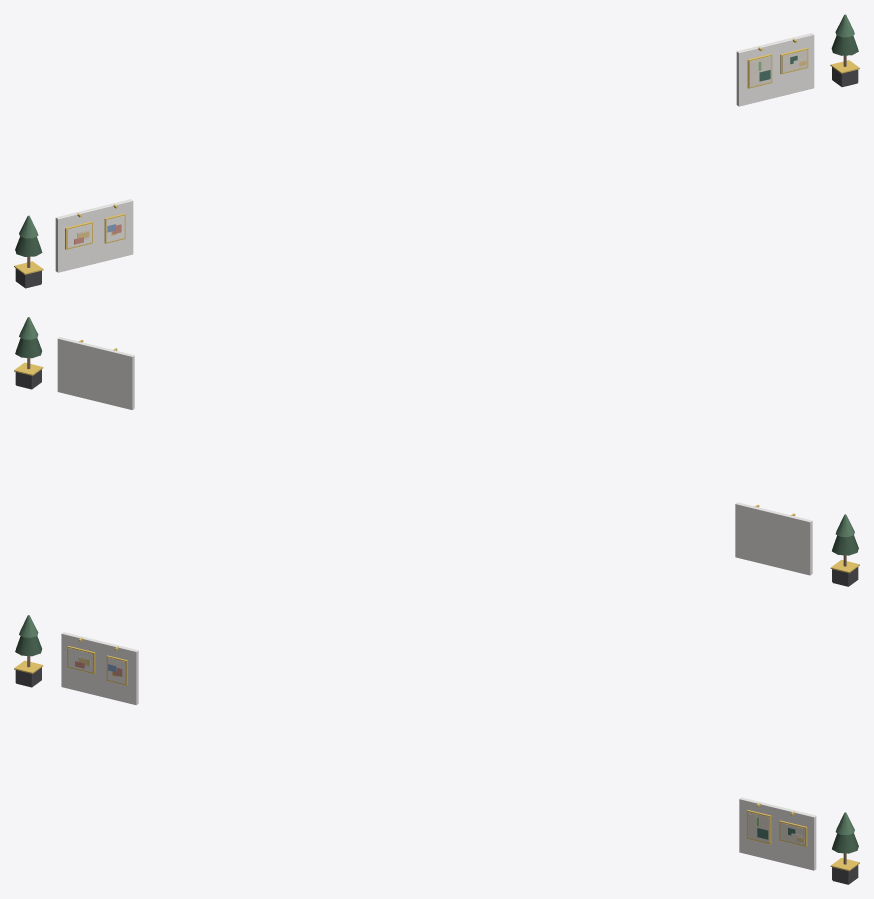
File: einrichtung_galerie_buehne.glb
The picture shows the model from 3 angles, top to bottom: view 1: azimuth 30°, elevation 25°; view 2: azimuth 150°, elevation 25°; view 3: azimuth 330°, elevation 25°; orthographic projection.
Visible parts, largest first — view 1: einrichtung_galerie_buehne; view 2: einrichtung_galerie_buehne; view 3: einrichtung_galerie_buehne.
Boxes of the visible parts, box(x1,y1,x2,y2) form: einrichtung_galerie_buehne: box(14, 14, 859, 288); einrichtung_galerie_buehne: box(14, 317, 859, 586); einrichtung_galerie_buehne: box(14, 615, 859, 884).
Bounding box in the file's own units: 24.51 × 1.87 × 0.814.
